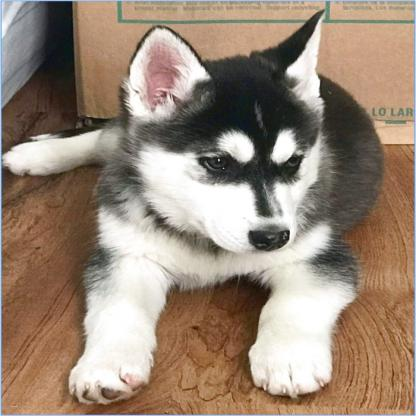dog: (0, 13, 379, 401)
